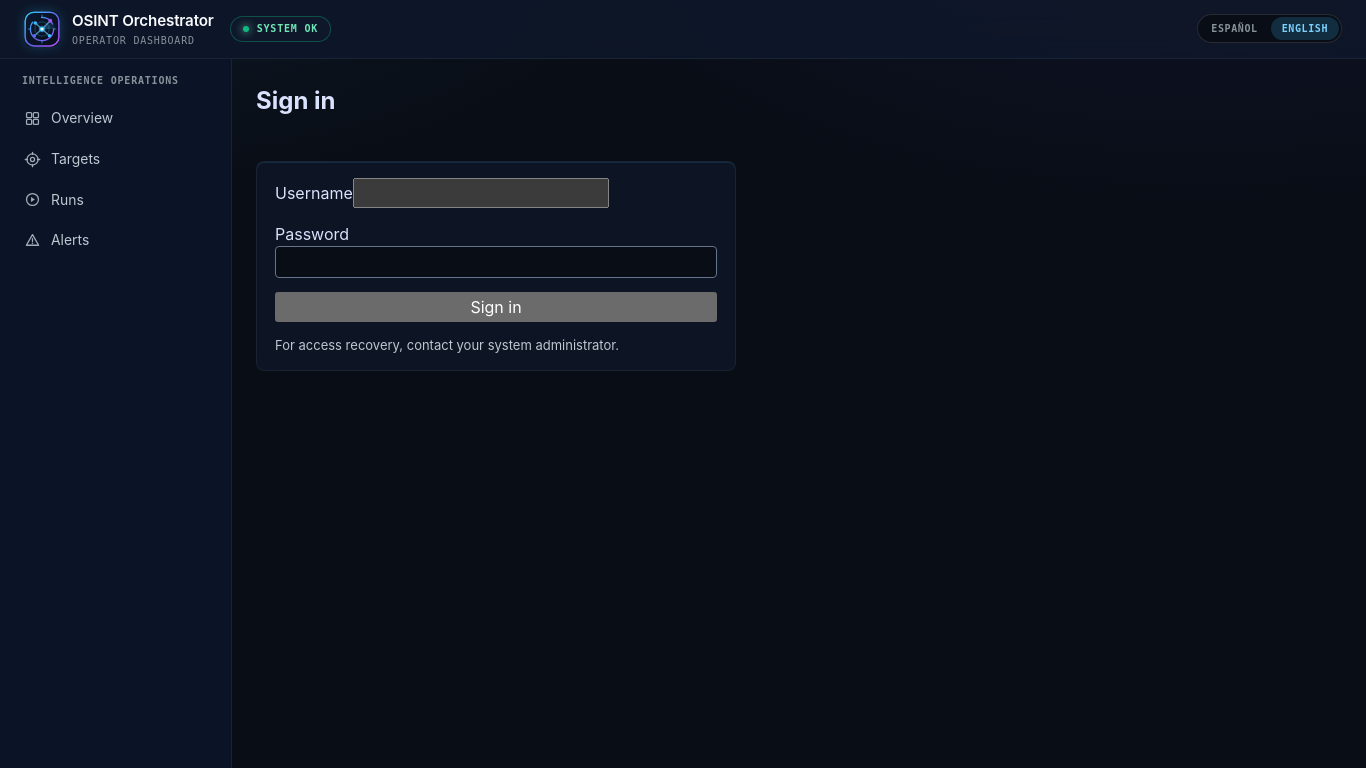
Test: uses personal sign-in without storing passwords or API keys in browser storage
Type "test-user" into the field labelled "Username" at (481, 193), box 353,178 -> 609,208
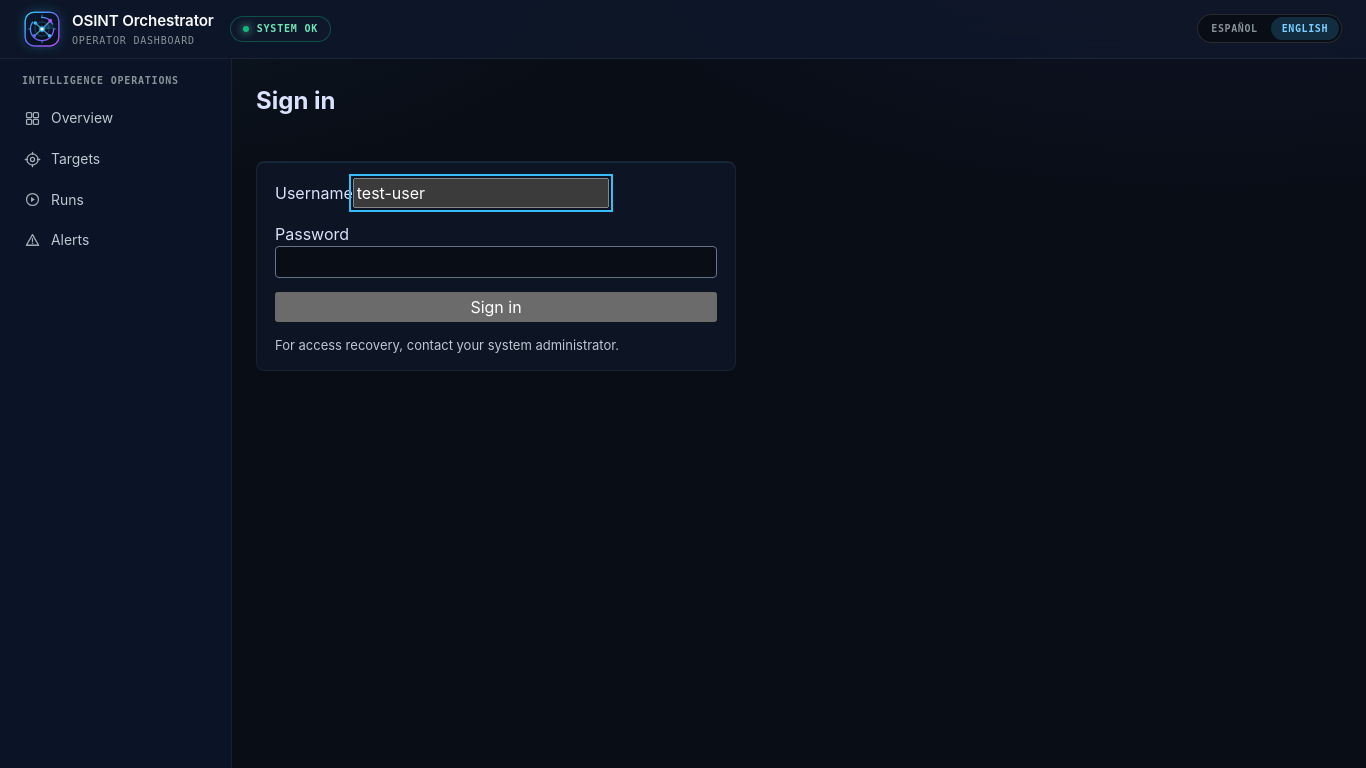
Type "test-user-password" into the password field labelled "Password" at (496, 262), box 275,246 -> 717,278
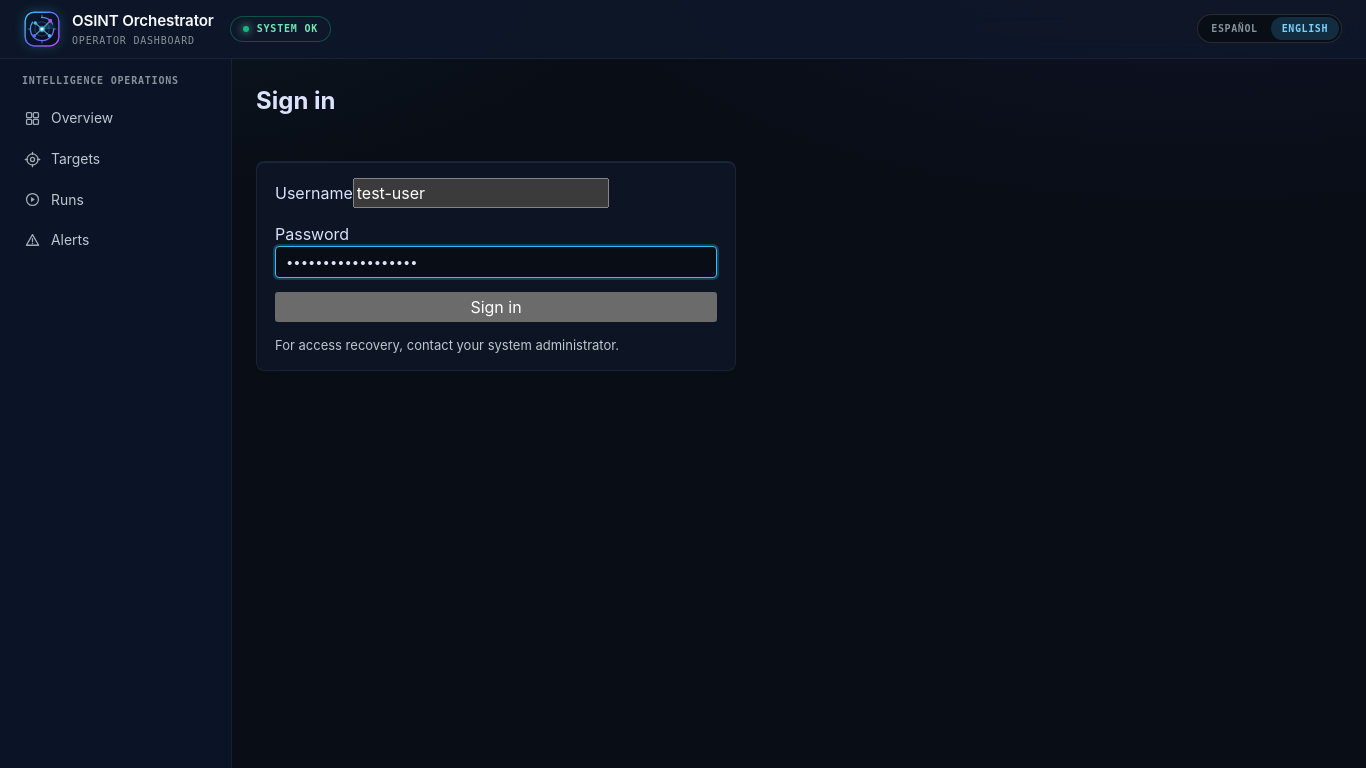
Click the button "Sign in" at (496, 307), box 275,292 -> 717,322
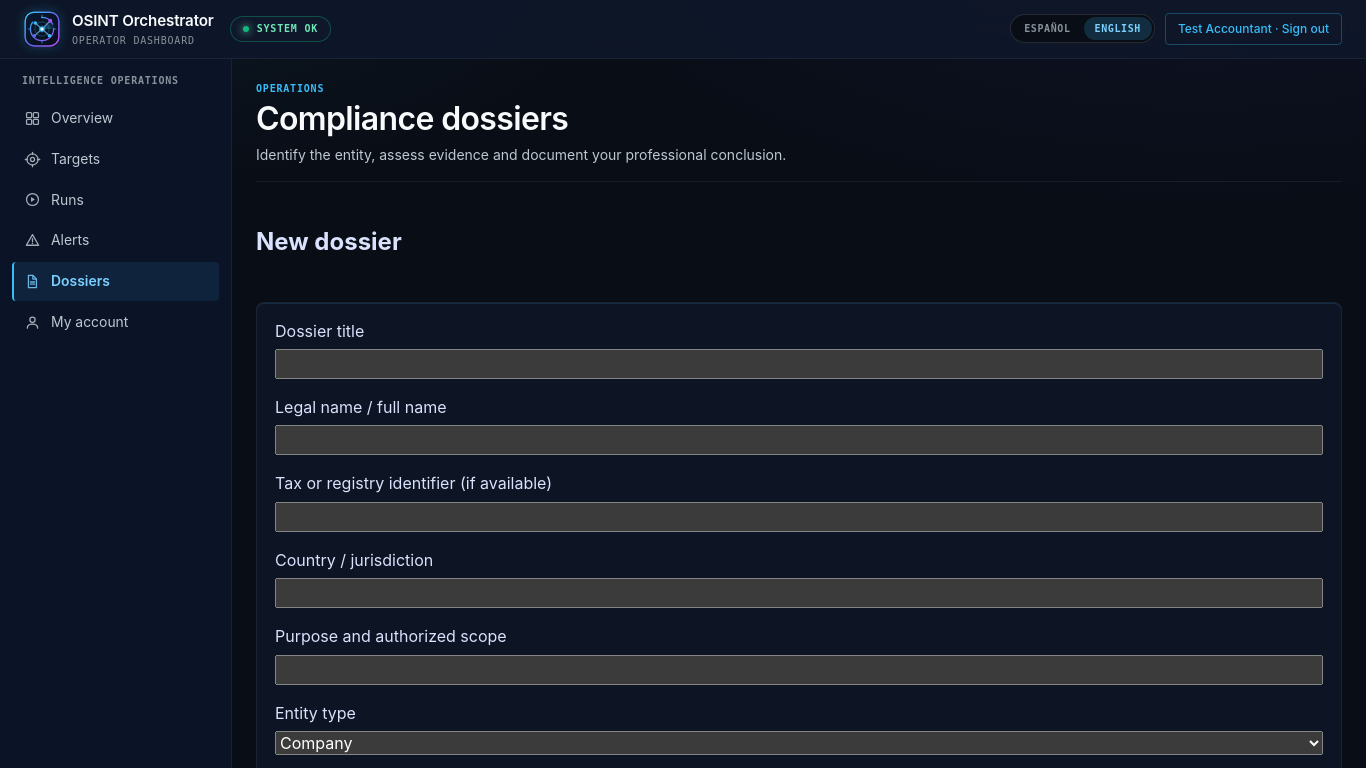
Expected: the heading "Compliance dossiers" is shown, 256,99 -> 568,138
Click the button "Test Accountant · Sign out" at (1253, 29), box 1165,13 -> 1342,45
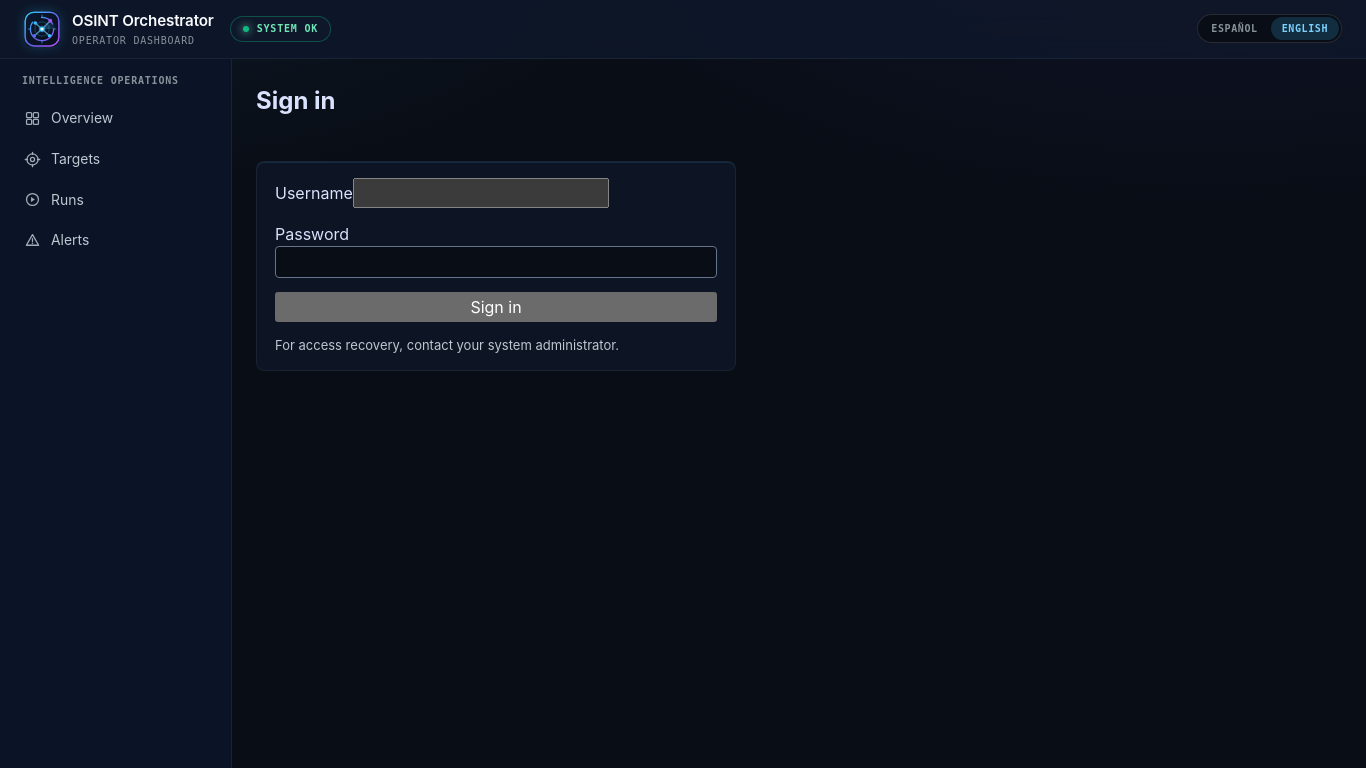
Expected: the heading "Sign in" is shown, 256,86 -> 336,115
